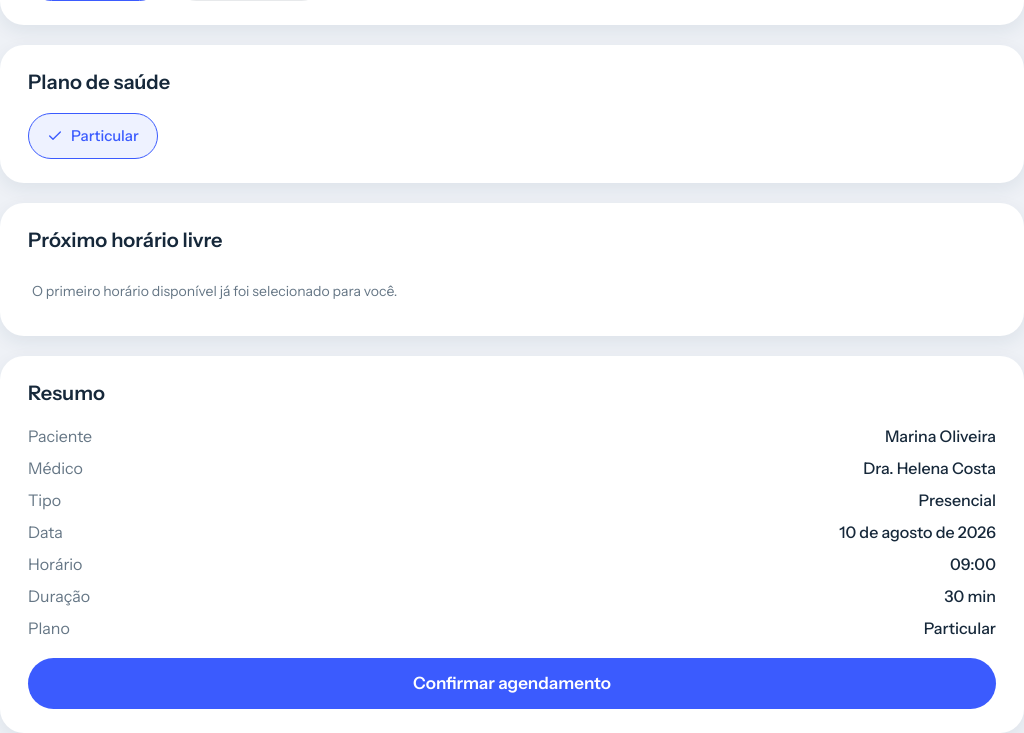
Test: consulta rápida atualiza o horário depois de conflito sem sair do modo
(page scrolled)
Step 1. Click the button "Confirmar agendamento" → (512, 684), box [28,658,996,709]
(page scrolled)
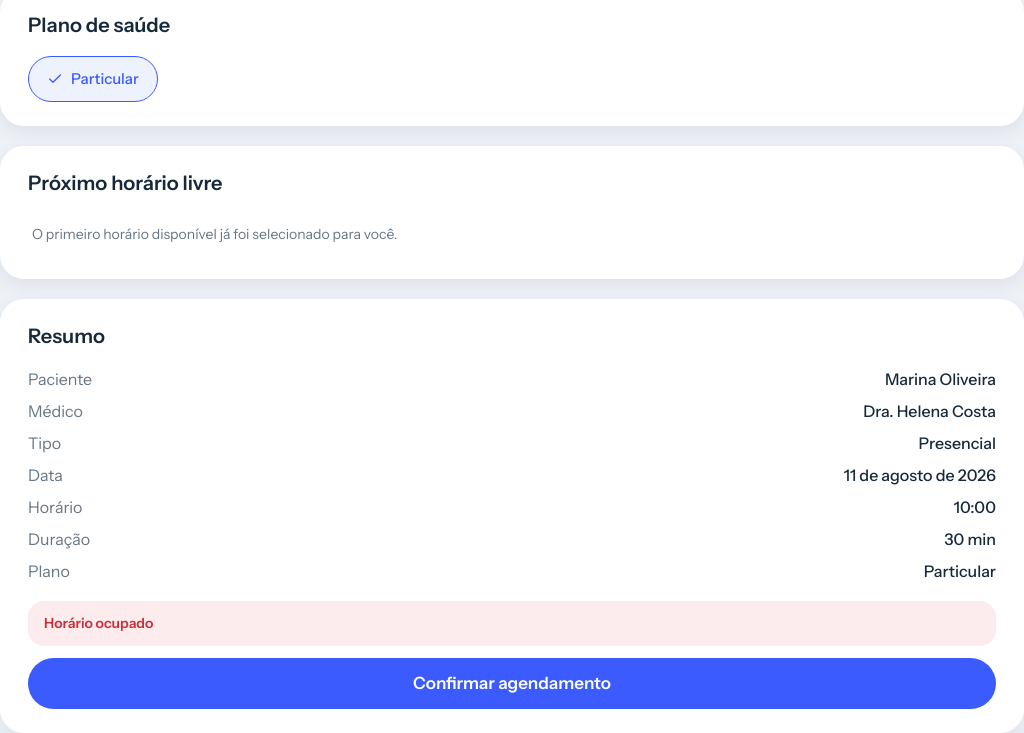
Expected: the message "Horário ocupado" is shown, [28,601,996,646]
Expected: the text "10:00" is shown, [954,495,996,519]
Expected: the text "11 de agosto de 2026" is shown, [844,463,996,487]
